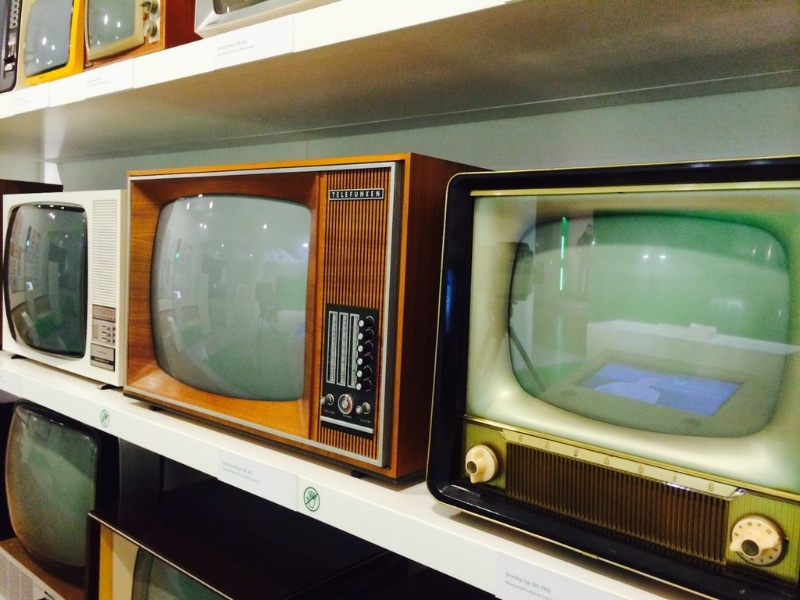tv: (442, 172, 800, 589), (119, 165, 441, 480), (3, 182, 128, 388)
